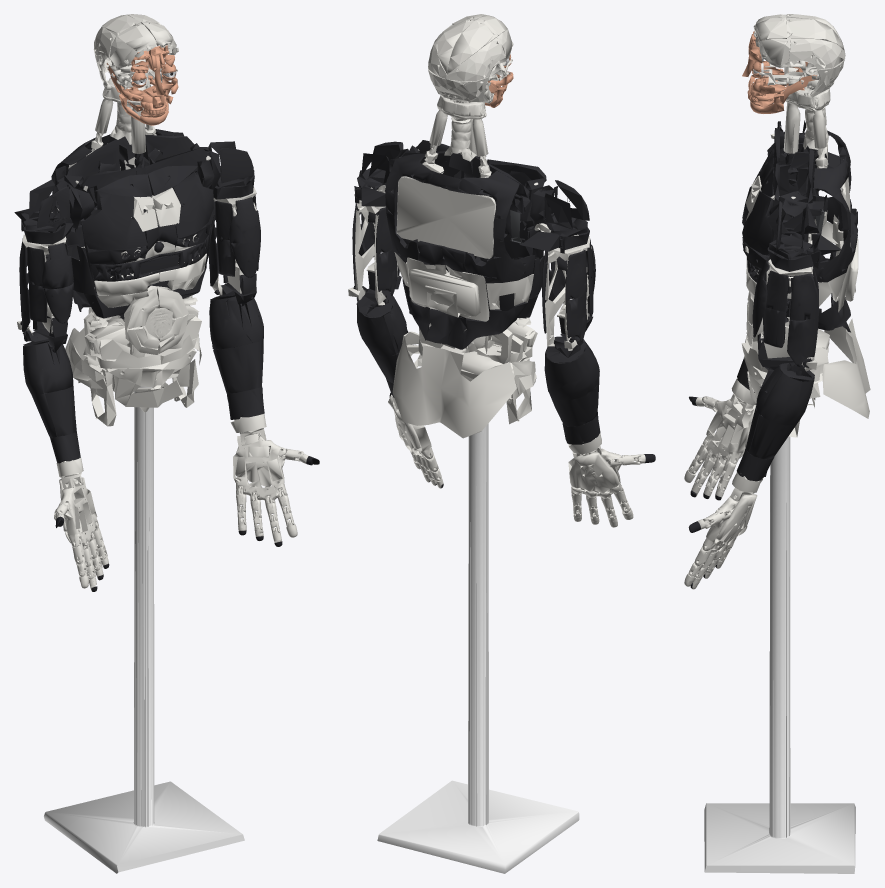
Rendered from inmoov.glb.
The picture shows the model from 3 angles, left to right: view 1: azimuth 30°, elevation 25°; view 2: azimuth 150°, elevation 25°; view 3: azimuth 270°, elevation 25°; orthographic projection. The views are drawn at different scales.
Visible parts, largest first — view 1: stand_link__stand, torso_y_link__black, torso_z_link__white, torso_y_link__white, left_elbow_x_link__black, torso_bottom_link__white, right_elbow_x_link__black, right_shoulder_z_link__black, NewHead_origin__white, left_shoulder_z_link__black, left_wrist_z_link__white, right_shoulder_x_link__black (+6 smaller); view 2: stand_link__stand, torso_y_link__black, torso_y_link__white, torso_bottom_link__white, NewHead_origin__white, right_elbow_x_link__black, right_shoulder_x_link__black, left_elbow_x_link__black, right_shoulder_z_link__black, torso_z_link__white, right_wrist_z_link__white, left_shoulder_z_link__black (+4 smaller); view 3: stand_link__stand, torso_y_link__black, NewHead_origin__white, left_elbow_x_link__black, left_shoulder_z_link__black, torso_y_link__white, torso_bottom_link__white, left_shoulder_x_link__black, right_wrist_z_link__white, left_wrist_z_link__white, torso_z_link__white, NewHead_origin__skin (+6 smaller).
Part boxes in pixels (bbox=[...]): stand_link__stand: bbox=[44, 386, 244, 873]; torso_y_link__black: bbox=[51, 127, 214, 319]; torso_z_link__white: bbox=[83, 285, 201, 368]; torso_y_link__white: bbox=[68, 99, 210, 307]; left_elbow_x_link__black: bbox=[209, 273, 264, 419]; torso_bottom_link__white: bbox=[65, 307, 201, 426]; right_elbow_x_link__black: bbox=[23, 316, 80, 463]; right_shoulder_z_link__black: bbox=[19, 238, 73, 341]; NewHead_origin__white: bbox=[93, 14, 178, 104]; left_shoulder_z_link__black: bbox=[208, 195, 260, 294]; left_wrist_z_link__white: bbox=[233, 428, 287, 504]; right_shoulder_x_link__black: bbox=[14, 179, 82, 244]; stand_link__stand: bbox=[377, 423, 579, 873]; torso_y_link__black: bbox=[385, 140, 546, 349]; torso_y_link__white: bbox=[394, 110, 538, 321]; torso_bottom_link__white: bbox=[392, 331, 536, 438]; NewHead_origin__white: bbox=[428, 14, 513, 119]; right_elbow_x_link__black: bbox=[544, 303, 600, 444]; right_shoulder_x_link__black: bbox=[521, 180, 589, 253]; left_elbow_x_link__black: bbox=[356, 265, 408, 397]; right_shoulder_z_link__black: bbox=[542, 239, 595, 350]; torso_z_link__white: bbox=[418, 252, 537, 374]; right_wrist_z_link__white: bbox=[568, 446, 623, 499]; left_shoulder_z_link__black: bbox=[352, 203, 397, 303]; stand_link__stand: bbox=[704, 436, 855, 873]; torso_y_link__black: bbox=[742, 128, 857, 332]; NewHead_origin__white: bbox=[753, 14, 845, 108]; left_elbow_x_link__black: bbox=[736, 333, 814, 481]; left_shoulder_z_link__black: bbox=[752, 258, 818, 375]; torso_y_link__white: bbox=[743, 102, 858, 312]; torso_bottom_link__white: bbox=[744, 318, 870, 437]; left_shoulder_x_link__black: bbox=[766, 199, 841, 271]; right_wrist_z_link__white: bbox=[702, 393, 756, 464]; left_wrist_z_link__white: bbox=[702, 488, 757, 553]; torso_z_link__white: bbox=[741, 292, 829, 373]; NewHead_origin__skin: bbox=[742, 39, 804, 100].
Size of the model in its own units: 0.617 by 1.81 by 0.3691.
